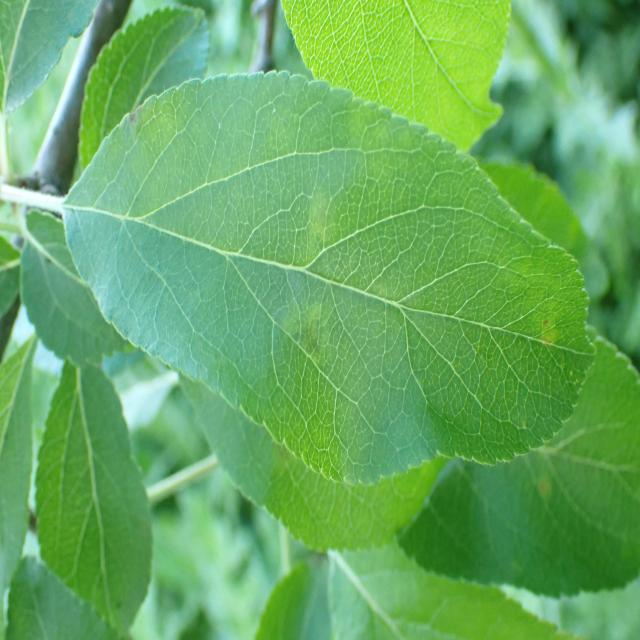scab: (105, 100, 575, 477)
